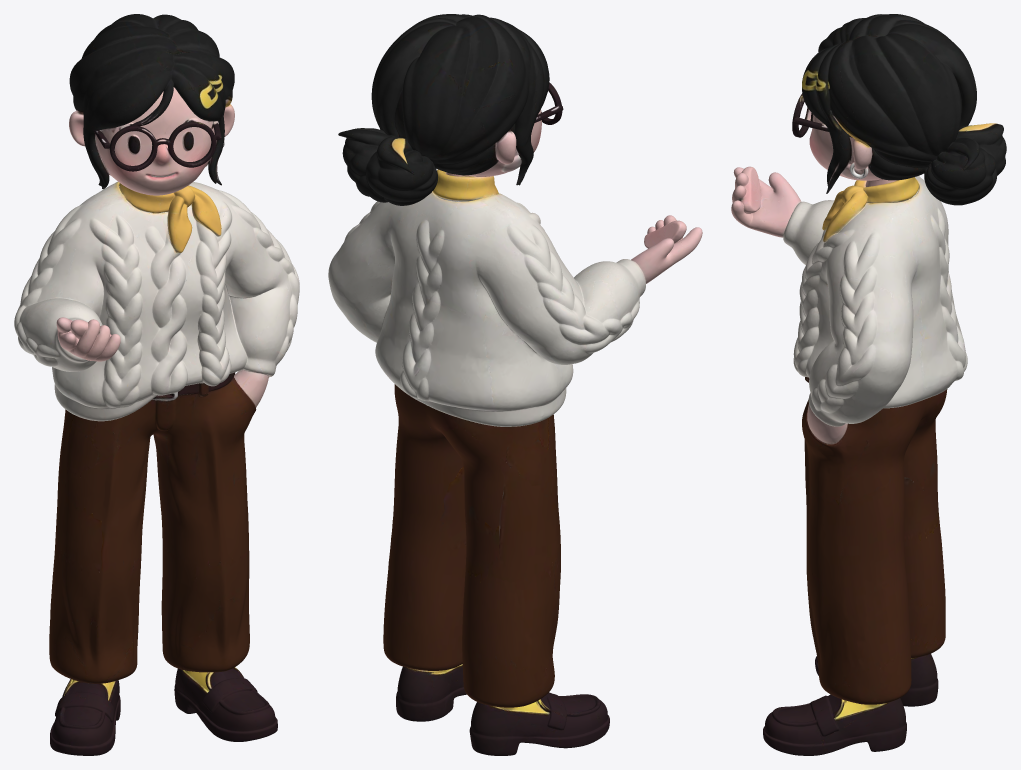
The model's file is ashly.glb.
3 renders of one model, left to right at view 1: azimuth 30°, elevation 25°; view 2: azimuth 150°, elevation 25°; view 3: azimuth 270°, elevation 25°, orthographic. The views are drawn at different scales.
Size of the model in its own units: 0.8503 by 1.9 by 0.6822.
Materials: 1 (1 with a texture image).
